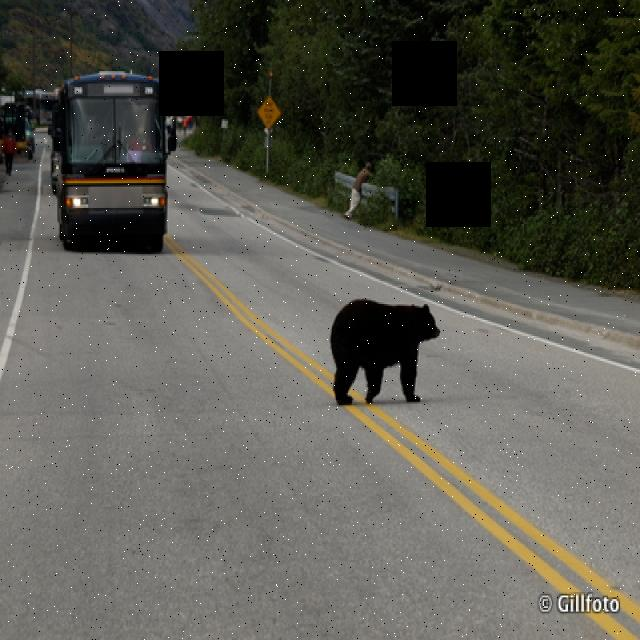Bear: (320, 290, 448, 410)
